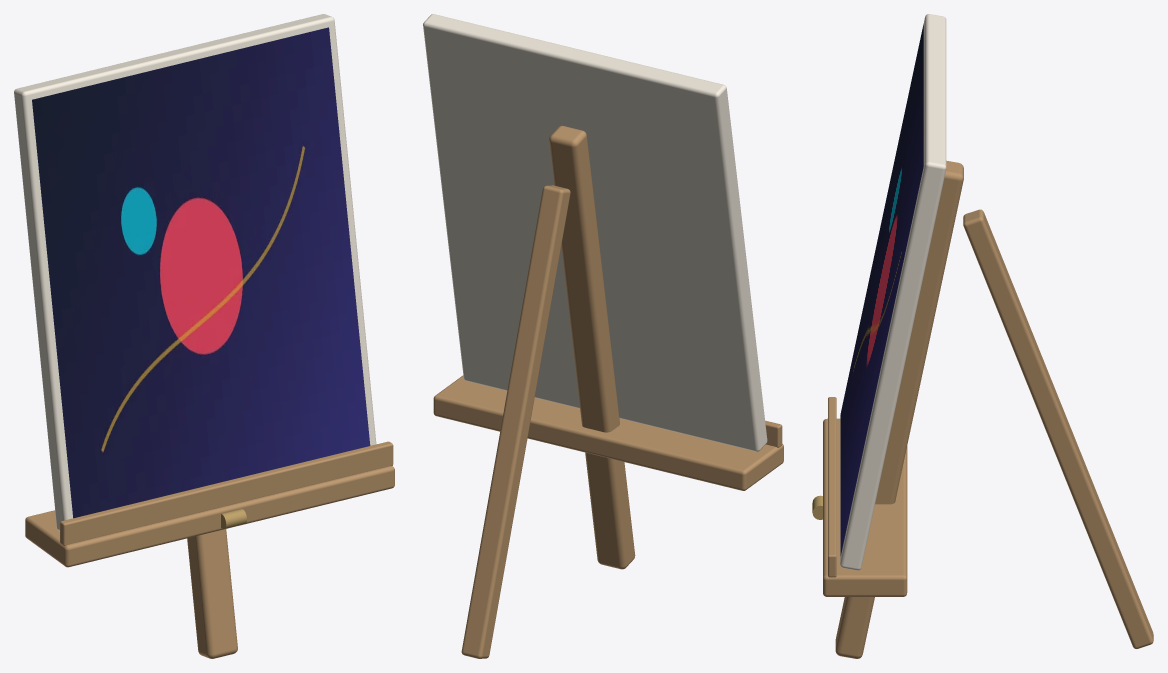
Rendered from atelier-artist-table-easel-oak.glb.
3 renders of one model, left to right at view 1: azimuth 30°, elevation 25°; view 2: azimuth 150°, elevation 25°; view 3: azimuth 270°, elevation 25°, orthographic. The views are drawn at different scales.
Parts seen in each view (by area): view 1: object 6, Artist canvas stretcher, object 3, Artist retaining lip, object 1; view 2: Artist canvas stretcher, object 1, object 2, object 3; view 3: Artist canvas stretcher, object 6, object 2, object 1, object 3, Artist retaining lip.
Part boxes in pixels (<box>): object 6: <box>32,27,370,518</box>; Artist canvas stretcher: <box>14,14,376,531</box>; object 3: <box>25,466,394,567</box>; Artist retaining lip: <box>60,441,393,545</box>; object 1: <box>187,529,237,658</box>; Artist canvas stretcher: <box>423,14,767,451</box>; object 1: <box>549,125,635,569</box>; object 2: <box>461,185,570,658</box>; object 3: <box>433,375,783,490</box>; Artist canvas stretcher: <box>840,14,946,570</box>; object 6: <box>840,24,923,555</box>; object 2: <box>963,209,1153,648</box>; object 1: <box>835,160,963,658</box>; object 3: <box>823,418,907,596</box>; Artist retaining lip: <box>828,397,836,577</box>.
Bounding box in the file's own units: 0.38 × 0.6293 × 0.3439.
4 materials, 1 textured.
